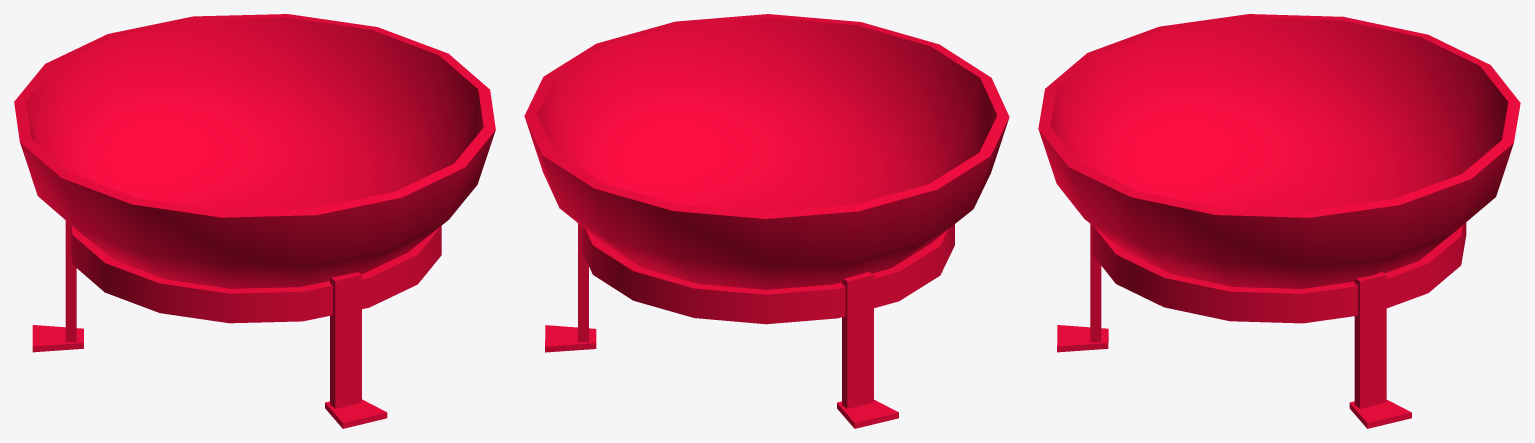
The model's file is MeltingRoom_FireBasin.fbx.
3 views of the same model, side by side, from view 1: azimuth 30°, elevation 25°; view 2: azimuth 150°, elevation 25°; view 3: azimuth 270°, elevation 25° (orthographic).
Parts seen in each view (by area): view 1: MeltingRoom_FireBasin; view 2: MeltingRoom_FireBasin; view 3: MeltingRoom_FireBasin.
Part boxes in pixels (left/top/right/bottom): MeltingRoom_FireBasin: left=14, top=14, right=495, bottom=428; MeltingRoom_FireBasin: left=524, top=14, right=1009, bottom=428; MeltingRoom_FireBasin: left=1038, top=14, right=1520, bottom=428.
Bounding box in the file's own units: 493 × 257 × 493.
